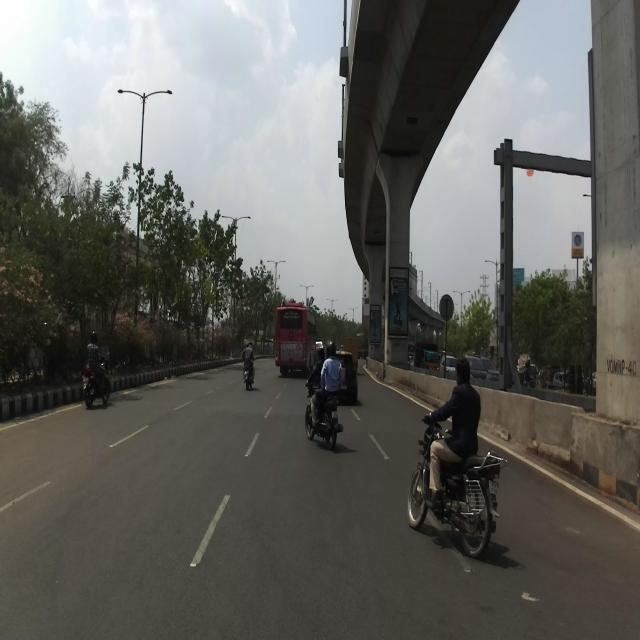motorcycle_Hero: (407, 416, 508, 558)
motorcycle_HeroHonda: (304, 380, 343, 450)
